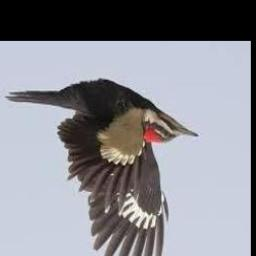Woodpecker: (5, 81, 199, 256)
